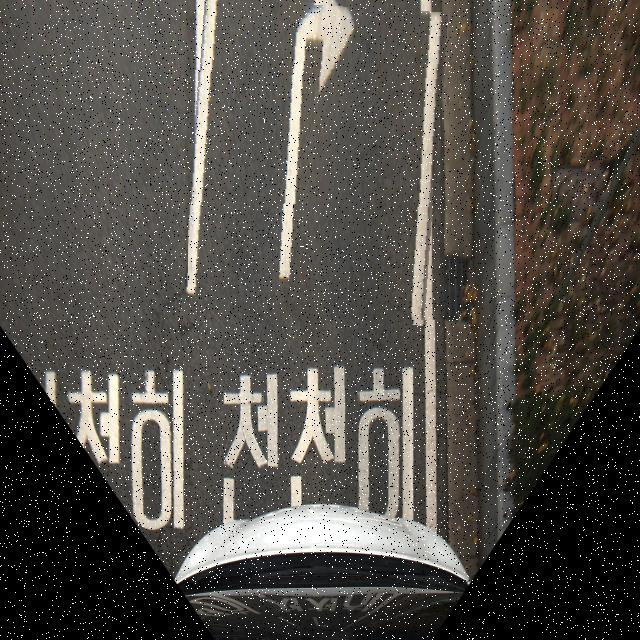right: (188, 2, 444, 322)
